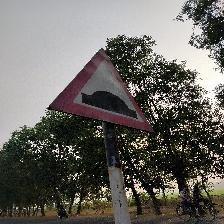Speed-breaker: (47, 48, 155, 133)
